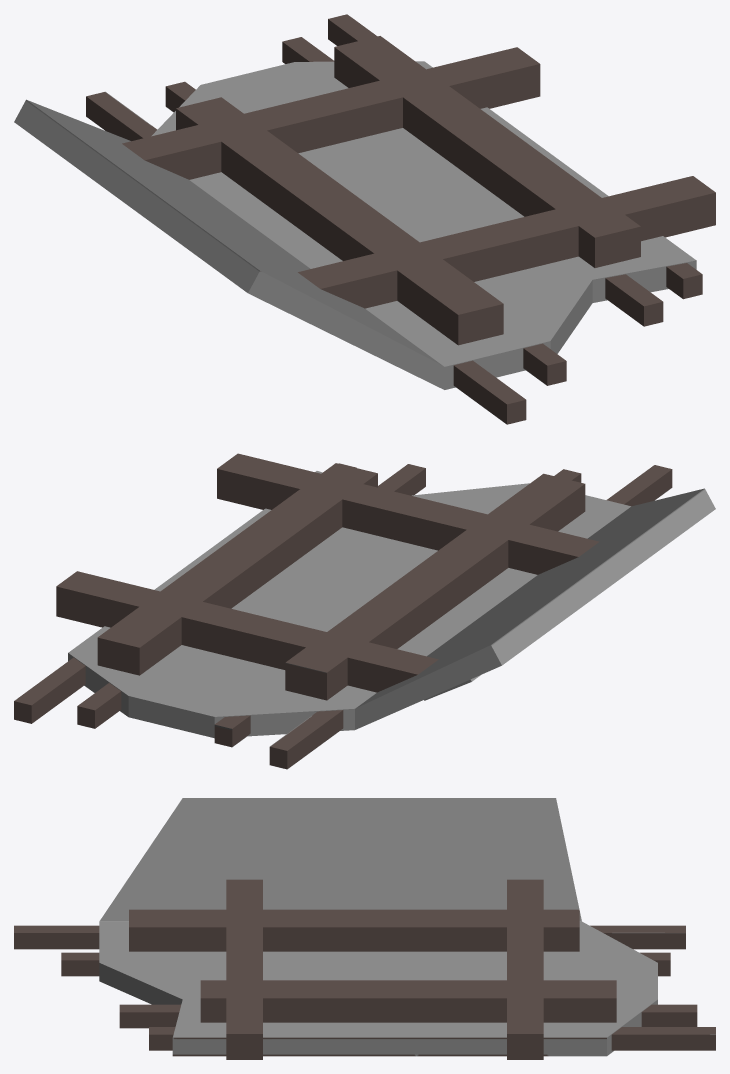
File: debris1.fbx
3 renders of one model, top to bottom at view 1: azimuth 30°, elevation 25°; view 2: azimuth 150°, elevation 25°; view 3: azimuth 270°, elevation 25°, orthographic. The views are drawn at different scales.
Visible parts, largest first — view 1: Cube; view 2: Cube; view 3: Cube.
Boxes of the visible parts, left/top/right/bottom form: Cube: left=14, top=14, right=715, bottom=424; Cube: left=14, top=453, right=715, bottom=769; Cube: left=14, top=798, right=715, bottom=1059.
Bounding box in the file's own units: 592 × 130 × 911.
